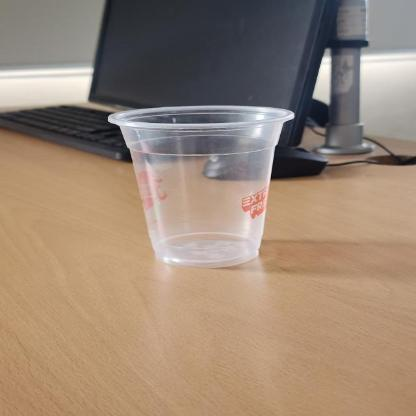Plastic Cup: (106, 106, 296, 268)
